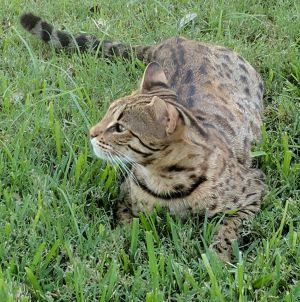bengal: (82, 54, 191, 171)
